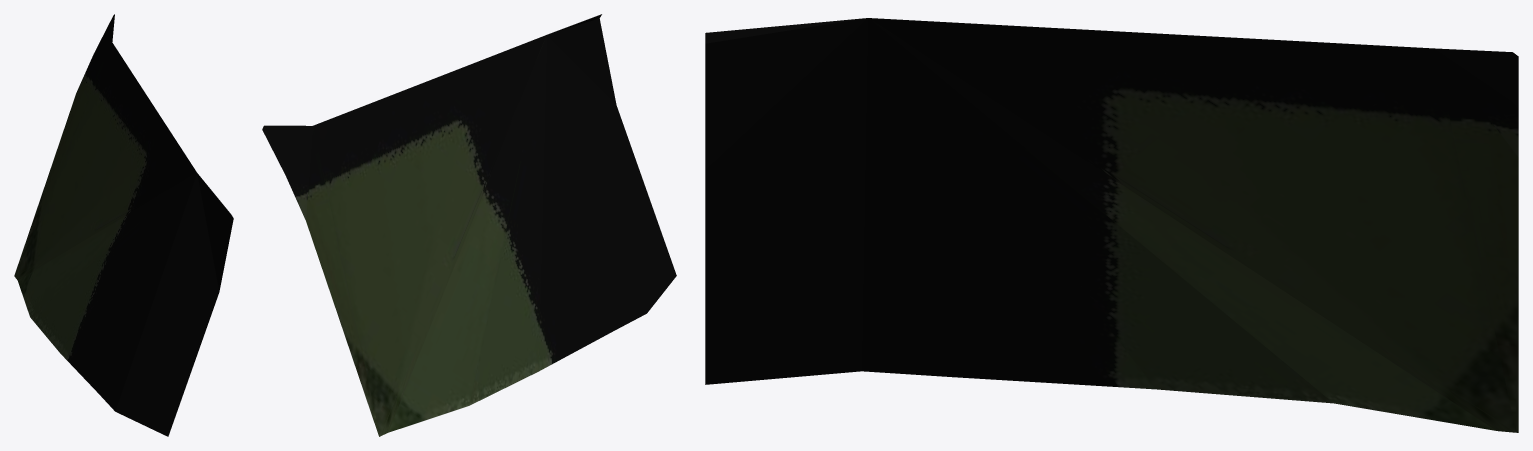
3 renders of one model, left to right at view 1: azimuth 30°, elevation 25°; view 2: azimuth 150°, elevation 25°; view 3: azimuth 270°, elevation 25°, orthographic. The views are drawn at different scales.
Bounding box in the file's own units: 2.72 × 3.82 × 5.9.
Materials: 2 (2 with a texture image).
